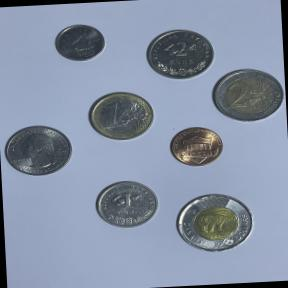coin: (170, 188, 258, 258), (0, 119, 76, 181), (210, 65, 286, 126), (84, 88, 158, 146), (144, 26, 216, 83), (165, 122, 228, 170), (50, 20, 110, 66)
